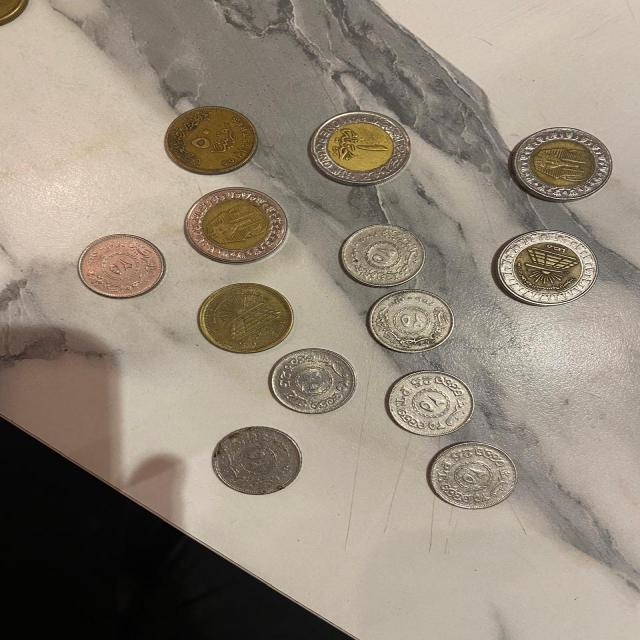Half Pound: (159, 99, 262, 182), (192, 277, 296, 356), (0, 0, 22, 23)
One Pound: (498, 122, 620, 209), (489, 220, 605, 306), (179, 182, 293, 268), (306, 108, 424, 189)
quarter pound: (197, 422, 319, 495), (422, 435, 522, 511), (265, 343, 359, 415), (362, 290, 457, 355), (382, 369, 474, 436), (334, 224, 430, 287), (77, 233, 166, 298)
